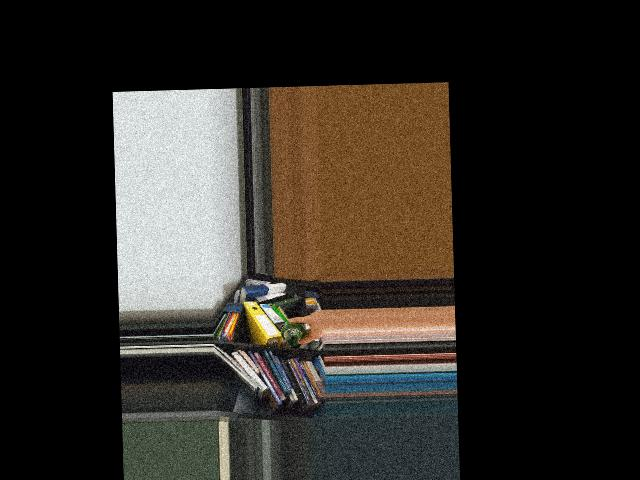beer: (280, 319, 304, 345)
